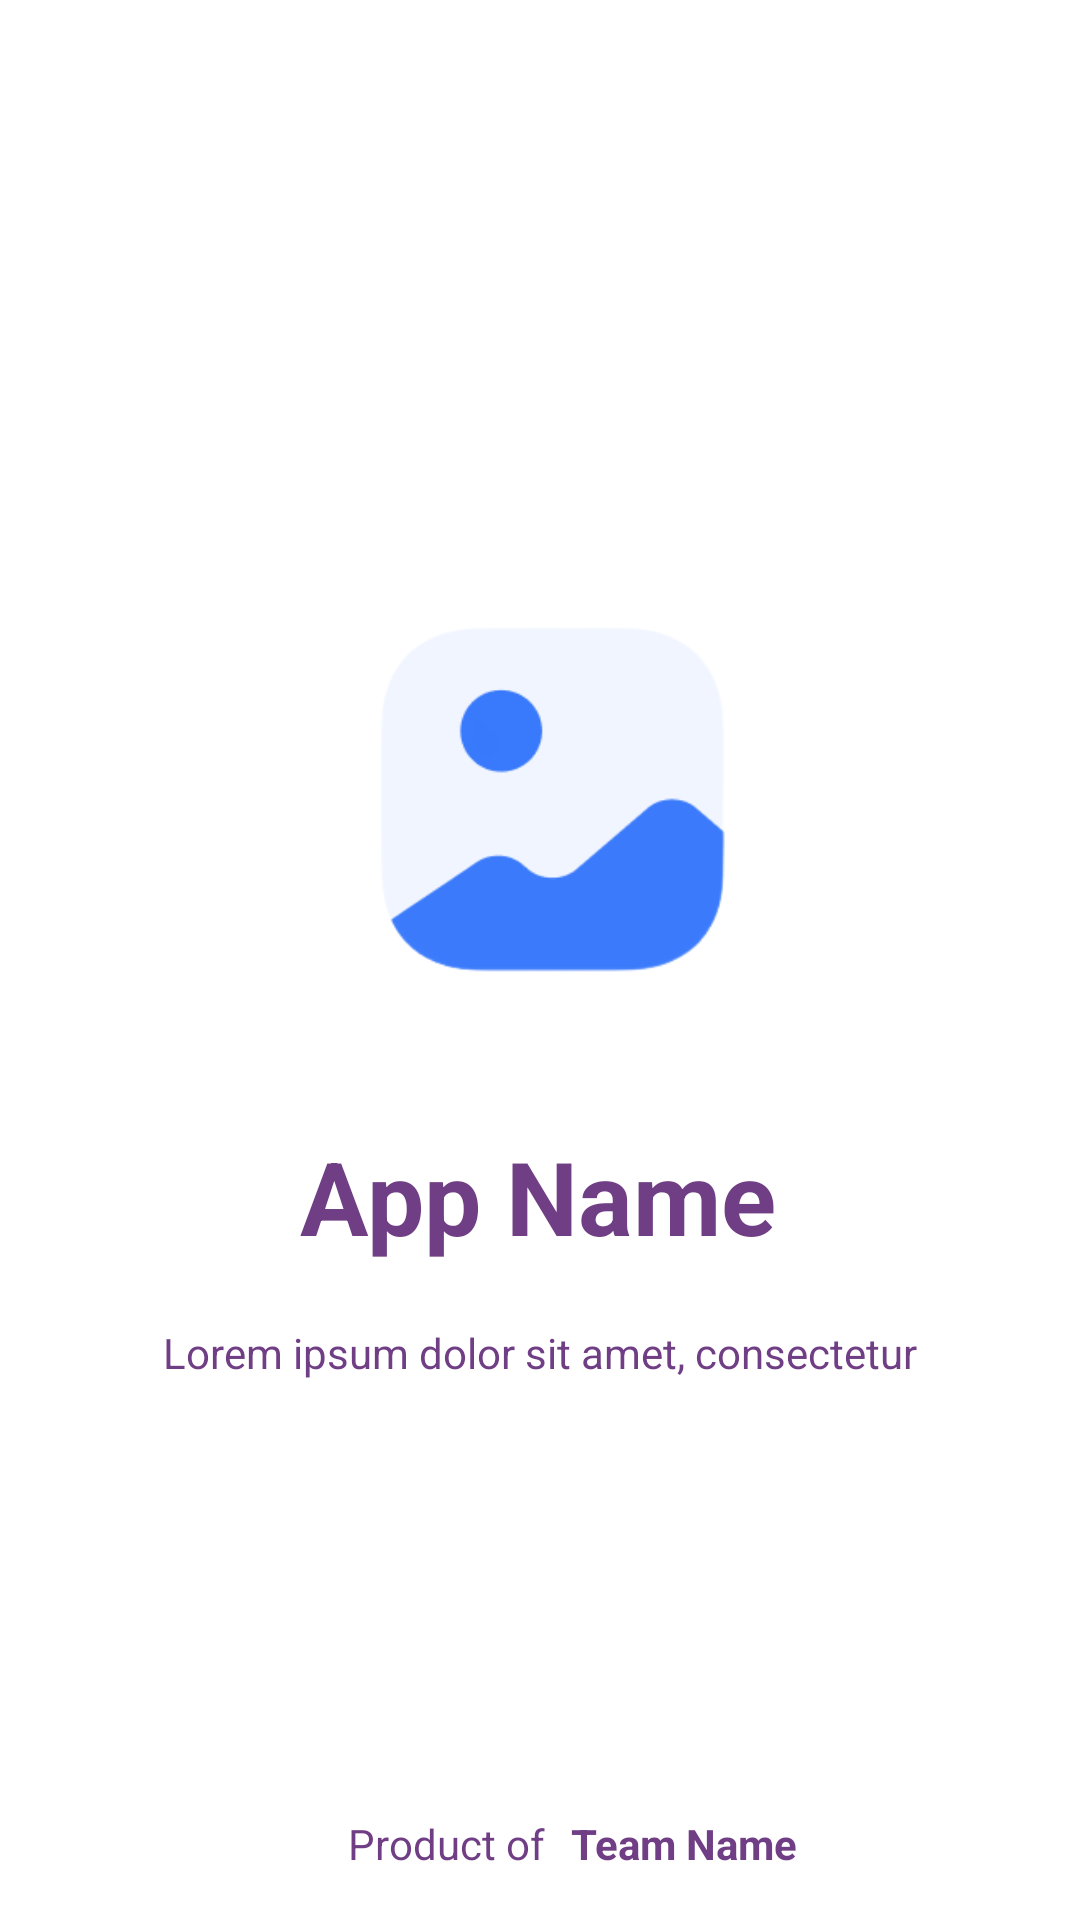

Where icons sit on this 1080px×1920px app screen, as (x1, y1, x2, y2):
zagl: (381, 628, 725, 972)
